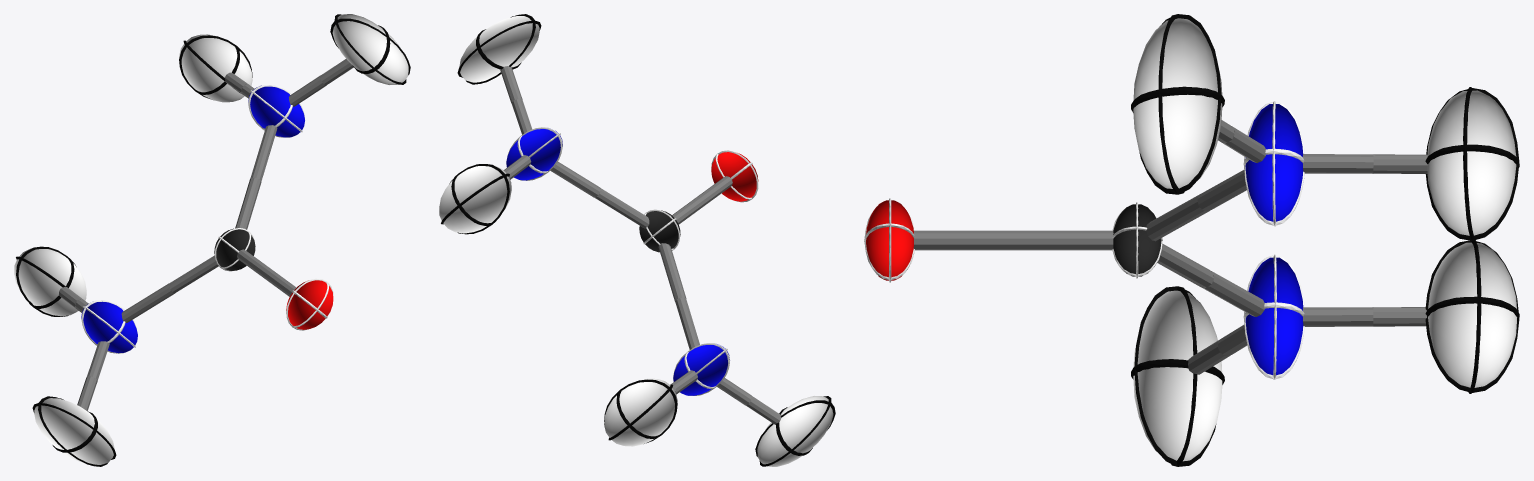
The model's file is urea_paw.obj.
3 renders of one model, left to right at view 1: azimuth 30°, elevation 25°; view 2: azimuth 150°, elevation 25°; view 3: azimuth 270°, elevation 25°, orthographic. The views are drawn at different scales.
Visible parts, largest first — view 1: object 7, H1, H2, object 8, N, object 6, O, C, object 17, N=C, C=N, object 18 (+5 smaller); view 2: object 8, H2, H1, object 7, object 6, N, O, C, object 18, C=N, N=C, object 17 (+5 smaller); view 3: H1, object 7, object 8, H2, object 6, N, O, C, C=O, O=C, N=H2, object 22 (+8 smaller).
Boxes of the visible parts, <box> form: object 7: <box>32,396,116,466</box>; H1: <box>330,14,410,84</box>; H2: <box>179,34,252,102</box>; object 8: <box>14,246,86,316</box>; N: <box>248,85,304,137</box>; object 6: <box>81,300,137,353</box>; O: <box>286,278,333,330</box>; C: <box>214,228,255,271</box>; object 17: <box>121,283,174,322</box>; N=C: <box>250,125,277,181</box>; C=N: <box>235,177,261,229</box>; object 18: <box>168,255,218,293</box>; object 8: <box>604,378,677,446</box>; H2: <box>439,164,511,234</box>; H1: <box>457,14,541,84</box>; object 7: <box>755,396,835,466</box>; object 6: <box>673,343,729,395</box>; N: <box>506,127,562,180</box>; O: <box>711,150,758,202</box>; C: <box>639,209,680,252</box>; object 18: <box>658,243,686,301</box>; C=N: <box>595,188,649,228</box>; N=C: <box>550,161,600,197</box>; object 17: <box>675,297,699,349</box>; H1: <box>1131,14,1224,194</box>; object 7: <box>1131,286,1224,466</box>; object 8: <box>1425,240,1519,393</box>; H2: <box>1425,87,1519,241</box>; object 6: <box>1243,254,1304,379</box>; N: <box>1243,101,1304,226</box>; O: <box>864,198,915,282</box>; C: <box>1112,202,1162,278</box>; C=O: <box>1013,230,1113,250</box>; O=C: <box>913,230,1013,250</box>; N=H2: <box>1302,154,1373,173</box>; object 22: <box>1303,307,1373,326</box>.
Bounding box in the file's own units: 3.59 × 3.59 × 3.33.
